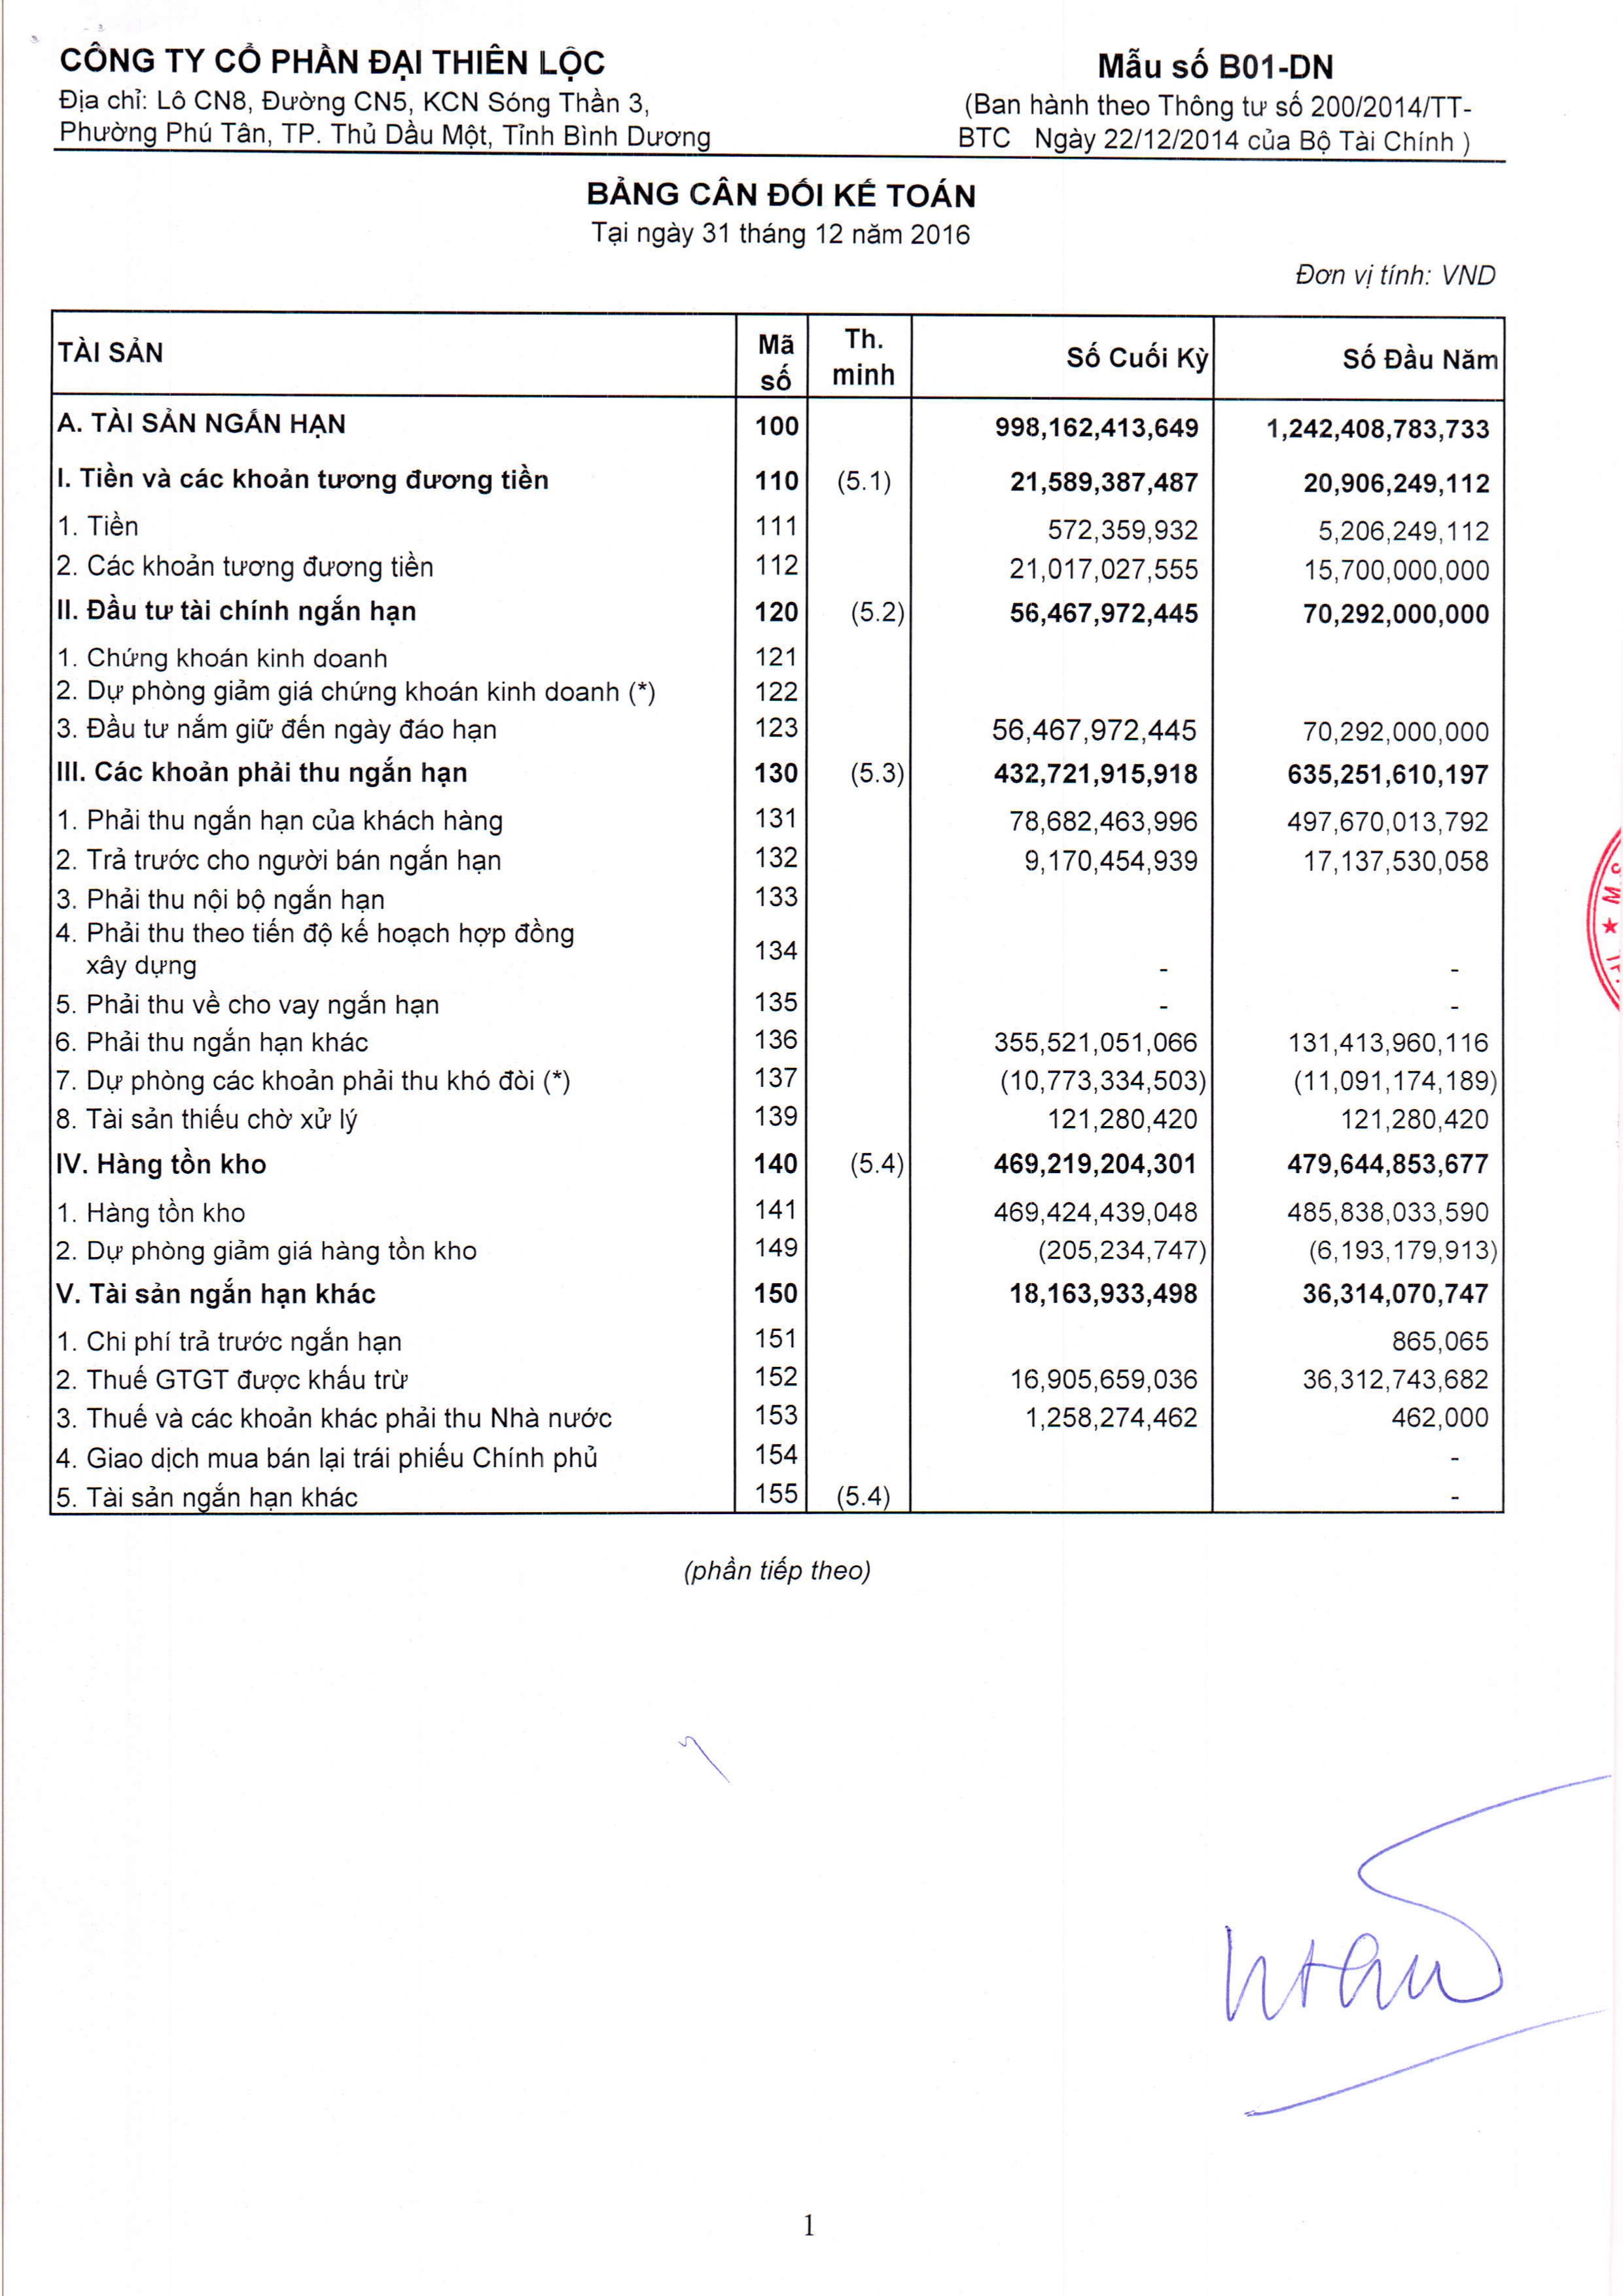table: (33, 302, 1525, 1525)
table column: (51, 302, 674, 1525), (1249, 302, 1507, 1525), (950, 302, 1207, 1525), (829, 302, 912, 1525), (747, 302, 819, 1525)
table column header: (33, 316, 1525, 409)
table row: (33, 332, 1525, 398), (33, 913, 1525, 979), (33, 411, 1525, 453), (33, 799, 1525, 841), (33, 1139, 1525, 1180), (33, 469, 1525, 507), (33, 593, 1525, 632), (33, 983, 1525, 1022), (33, 1267, 1525, 1306), (33, 1392, 1525, 1431), (33, 516, 1525, 553), (33, 555, 1525, 592), (33, 641, 1525, 678), (33, 876, 1525, 913), (33, 1099, 1525, 1136), (33, 1187, 1525, 1223), (33, 1318, 1525, 1355), (33, 713, 1525, 748), (33, 841, 1525, 876), (33, 1023, 1525, 1058), (33, 1062, 1525, 1097), (33, 1227, 1525, 1262), (33, 1357, 1525, 1392), (33, 1432, 1525, 1467), (33, 1469, 1525, 1504), (33, 757, 1525, 790), (33, 679, 1525, 711)
